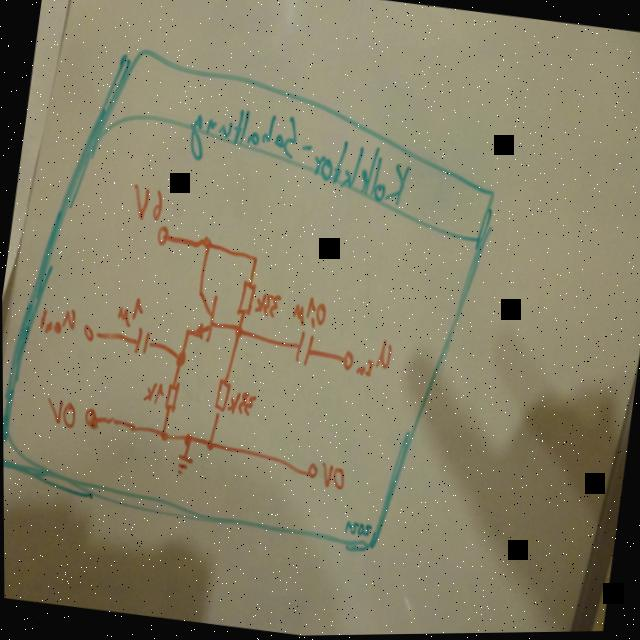capacitor: (285, 328, 323, 370), (126, 324, 159, 359)
ground: (173, 451, 196, 478)
junction: (172, 348, 191, 371), (198, 232, 216, 256), (231, 322, 248, 344), (183, 430, 199, 449), (157, 427, 172, 446), (203, 436, 217, 454), (250, 253, 262, 266)
resistor: (232, 273, 260, 324), (211, 374, 233, 420), (162, 377, 184, 415)
terminal: (81, 320, 104, 346), (83, 405, 104, 431), (153, 222, 173, 248), (338, 348, 357, 373), (304, 460, 321, 481)
text: (181, 99, 417, 210), (355, 334, 397, 382), (128, 179, 168, 226), (37, 302, 81, 339), (290, 292, 330, 332), (44, 397, 80, 431), (114, 293, 147, 330), (226, 386, 261, 420), (252, 288, 286, 321), (319, 461, 349, 492), (341, 518, 373, 541), (142, 381, 167, 406)
transistor: (178, 282, 223, 348)
